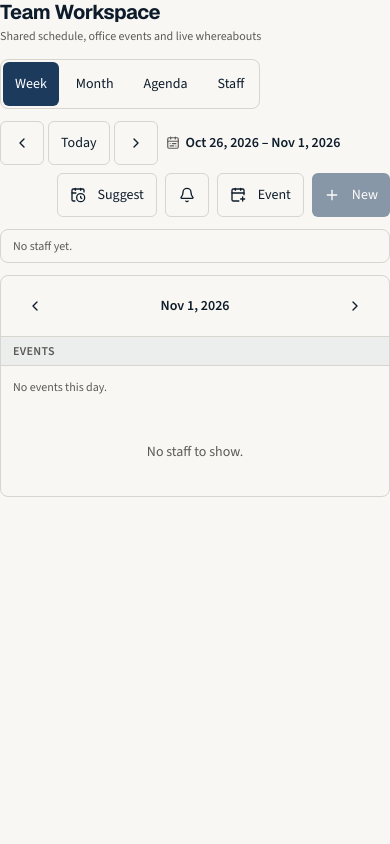
TeamWorkspacePage › a worker clicking a month cell opens the block editor prefilled with their own id + that date
This screenshot has width=390, height=844.
Click the button "Month".
click(95, 84)  # box [63,62,127,106]
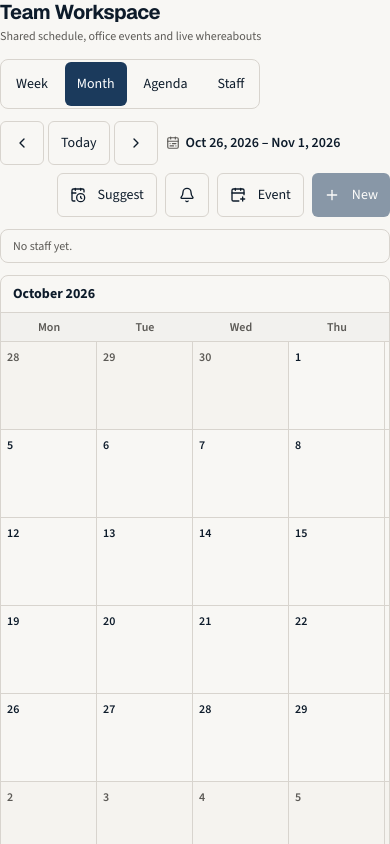
Click the text "15".
click(337, 562)  # box [289,518,385,606]
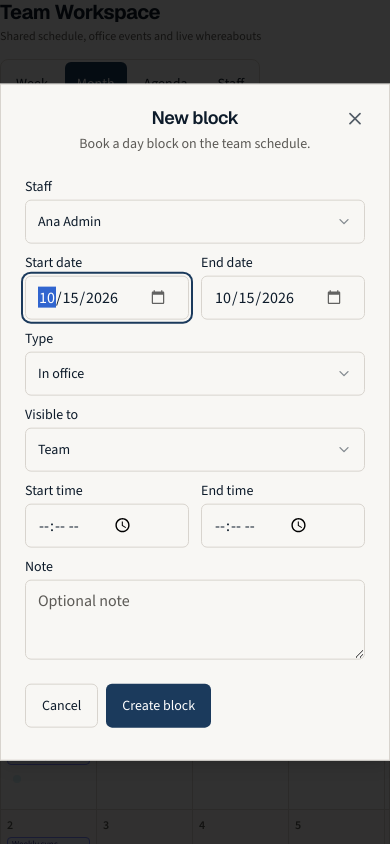
Check: the heading "New block" is shown, box [151,106,239,129]
Check: the dropdown named "Staff" reads "Ana Admin", box [25,199,365,243]
Check: the button "Create block" is shown, box [106,683,211,727]
